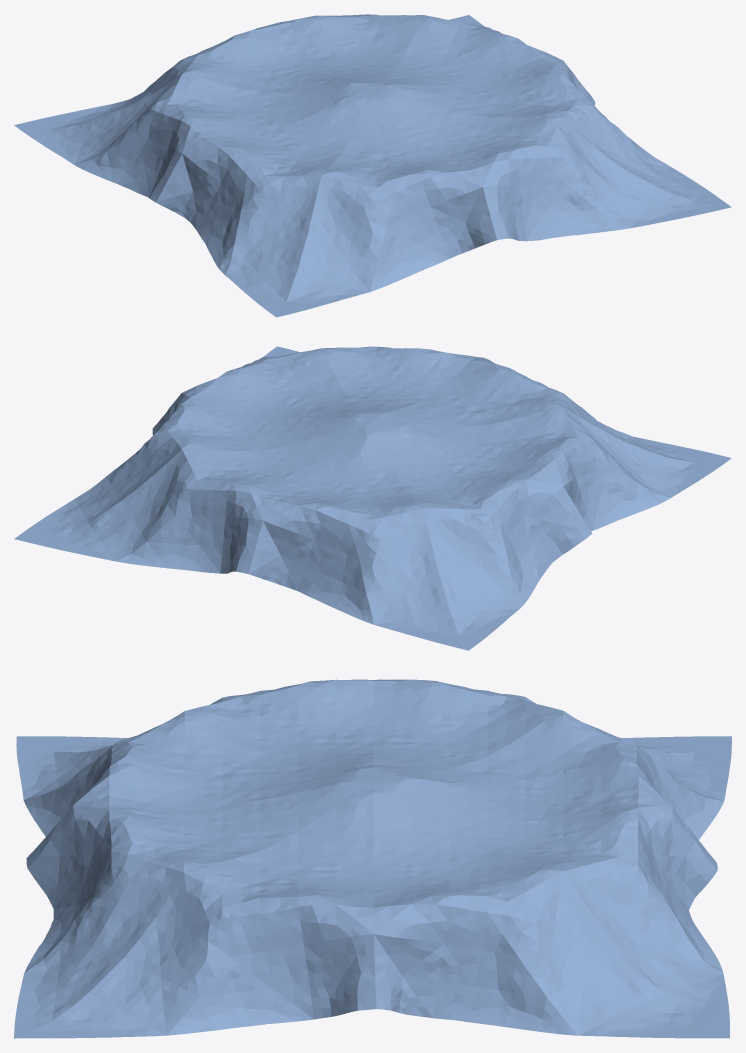
File: level_2.glb
3 renders of one model, top to bottom at view 1: azimuth 30°, elevation 25°; view 2: azimuth 150°, elevation 25°; view 3: azimuth 270°, elevation 25°, orthographic. The views are drawn at different scales.
Parts seen in each view (by area): view 1: world; view 2: world; view 3: world.
Part boxes in pixels (x1=…): world: x1=14, y1=14, x2=731, y2=317; world: x1=14, y1=346, x2=731, y2=650; world: x1=14, y1=679, x2=731, y2=1038.
Bounding box in the file's own units: 0.6017 × 0.0979 × 0.604.
